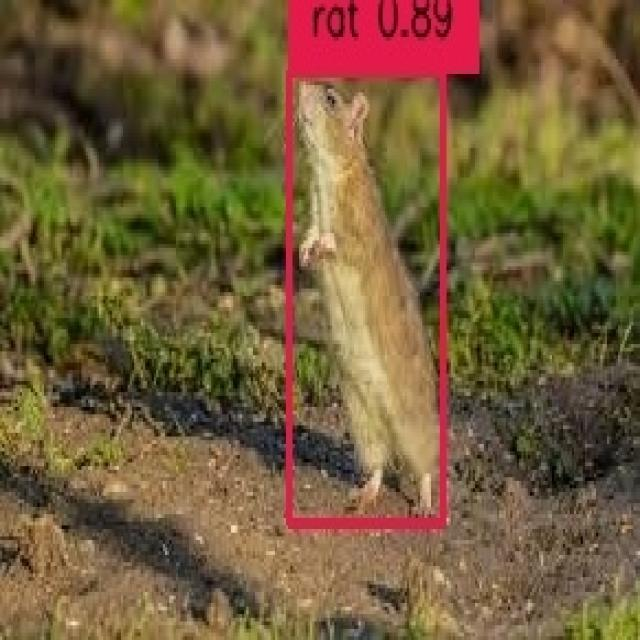rat: (286, 67, 440, 518)
